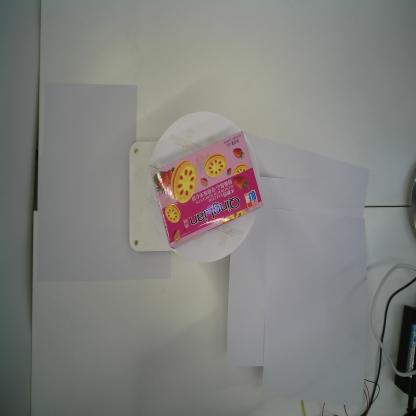Dessert: (149, 129, 264, 250)
